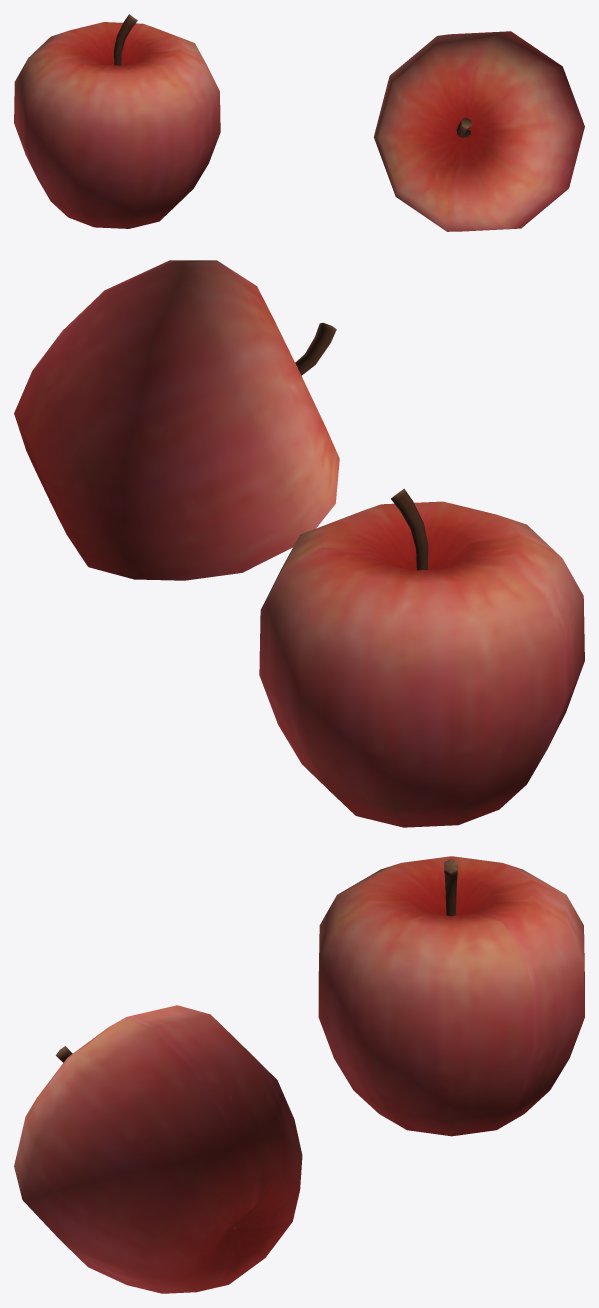
Rendered from SiWangPenQuan_01_pingguo_01_UV2.FBX.
The picture shows the model from 3 angles, top to bottom: view 1: azimuth 30°, elevation 25°; view 2: azimuth 150°, elevation 25°; view 3: azimuth 270°, elevation 25°; orthographic projection. The views are drawn at different scales.
Visible parts, largest first — view 1: SiWangPenQuan_01_pingguo_01_UV2; view 2: SiWangPenQuan_01_pingguo_01_UV2; view 3: SiWangPenQuan_01_pingguo_01_UV2.
Boxes of the visible parts, x1,y1,x2,y2 form: SiWangPenQuan_01_pingguo_01_UV2: [14, 14, 584, 231]; SiWangPenQuan_01_pingguo_01_UV2: [14, 260, 584, 827]; SiWangPenQuan_01_pingguo_01_UV2: [14, 856, 584, 1293].
Size of the model in its own units: 135 by 56.11 by 113.
